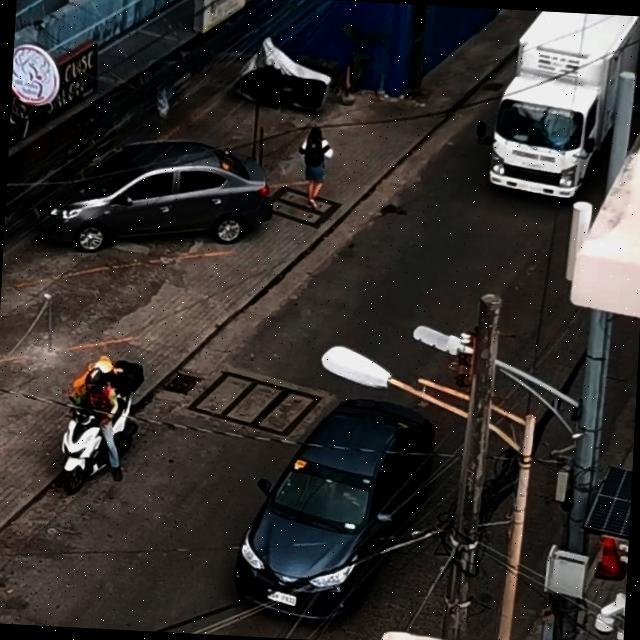Truck: (491, 9, 640, 201)
